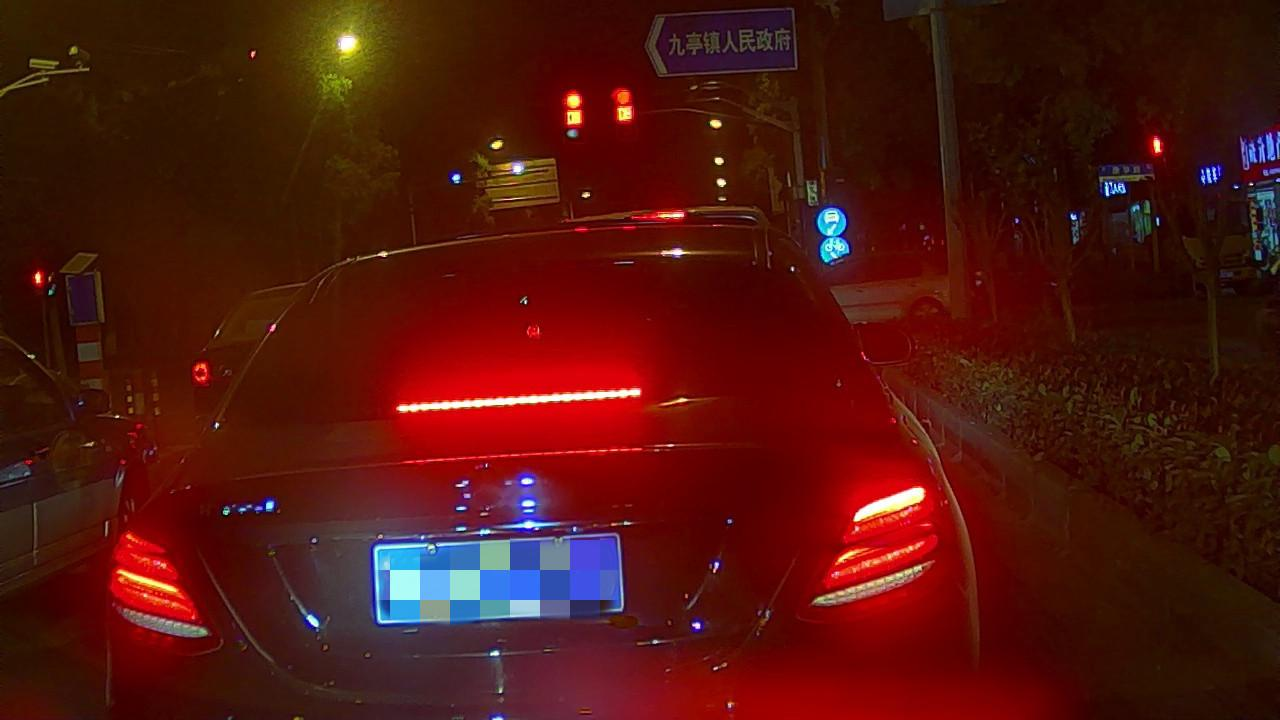traffic_light: (607, 81, 637, 129), (559, 85, 587, 130)
